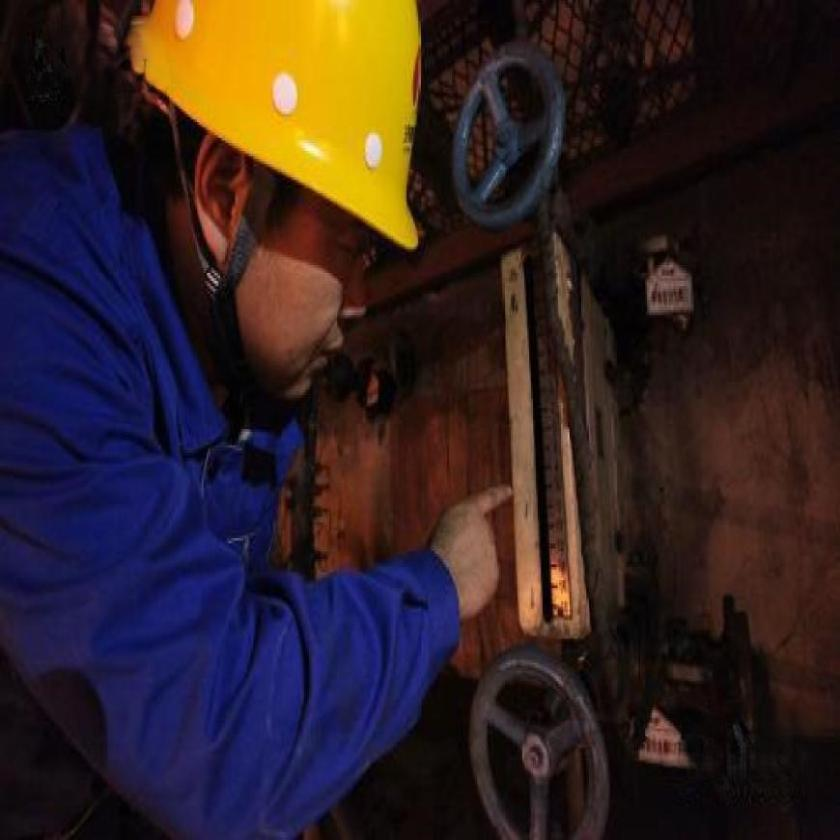Con_casco: (135, 0, 424, 409)
